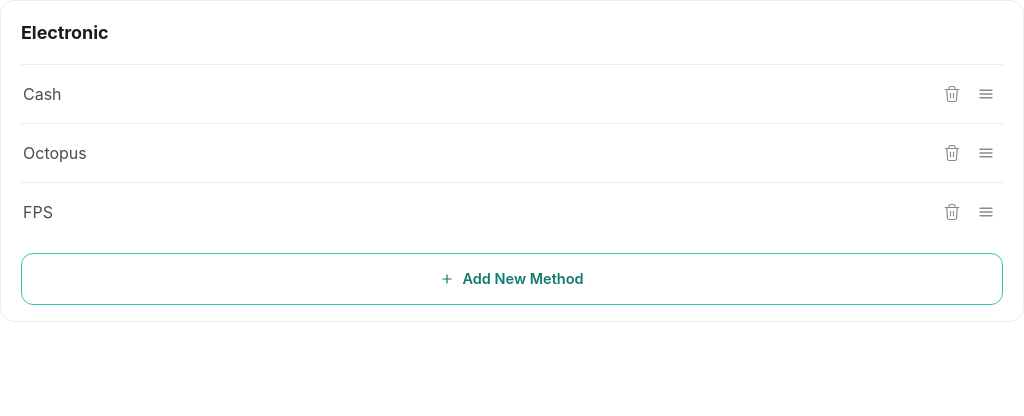
Test case: adding › uses a caller-supplied placeholder
Click the button "Add New Method".
click(512, 279)  # box x1=21 y1=253 x2=1003 y2=305
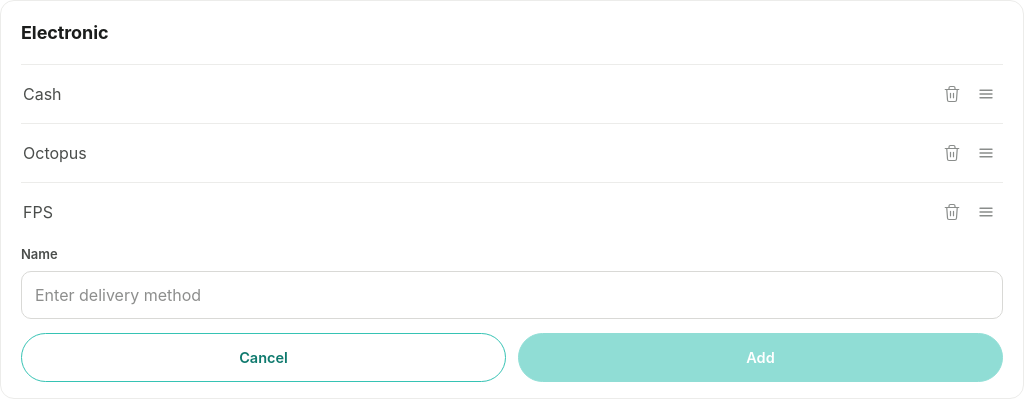
Now the field with placeholder "Enter delivery method" is shown, box x1=21 y1=270 x2=1003 y2=318
